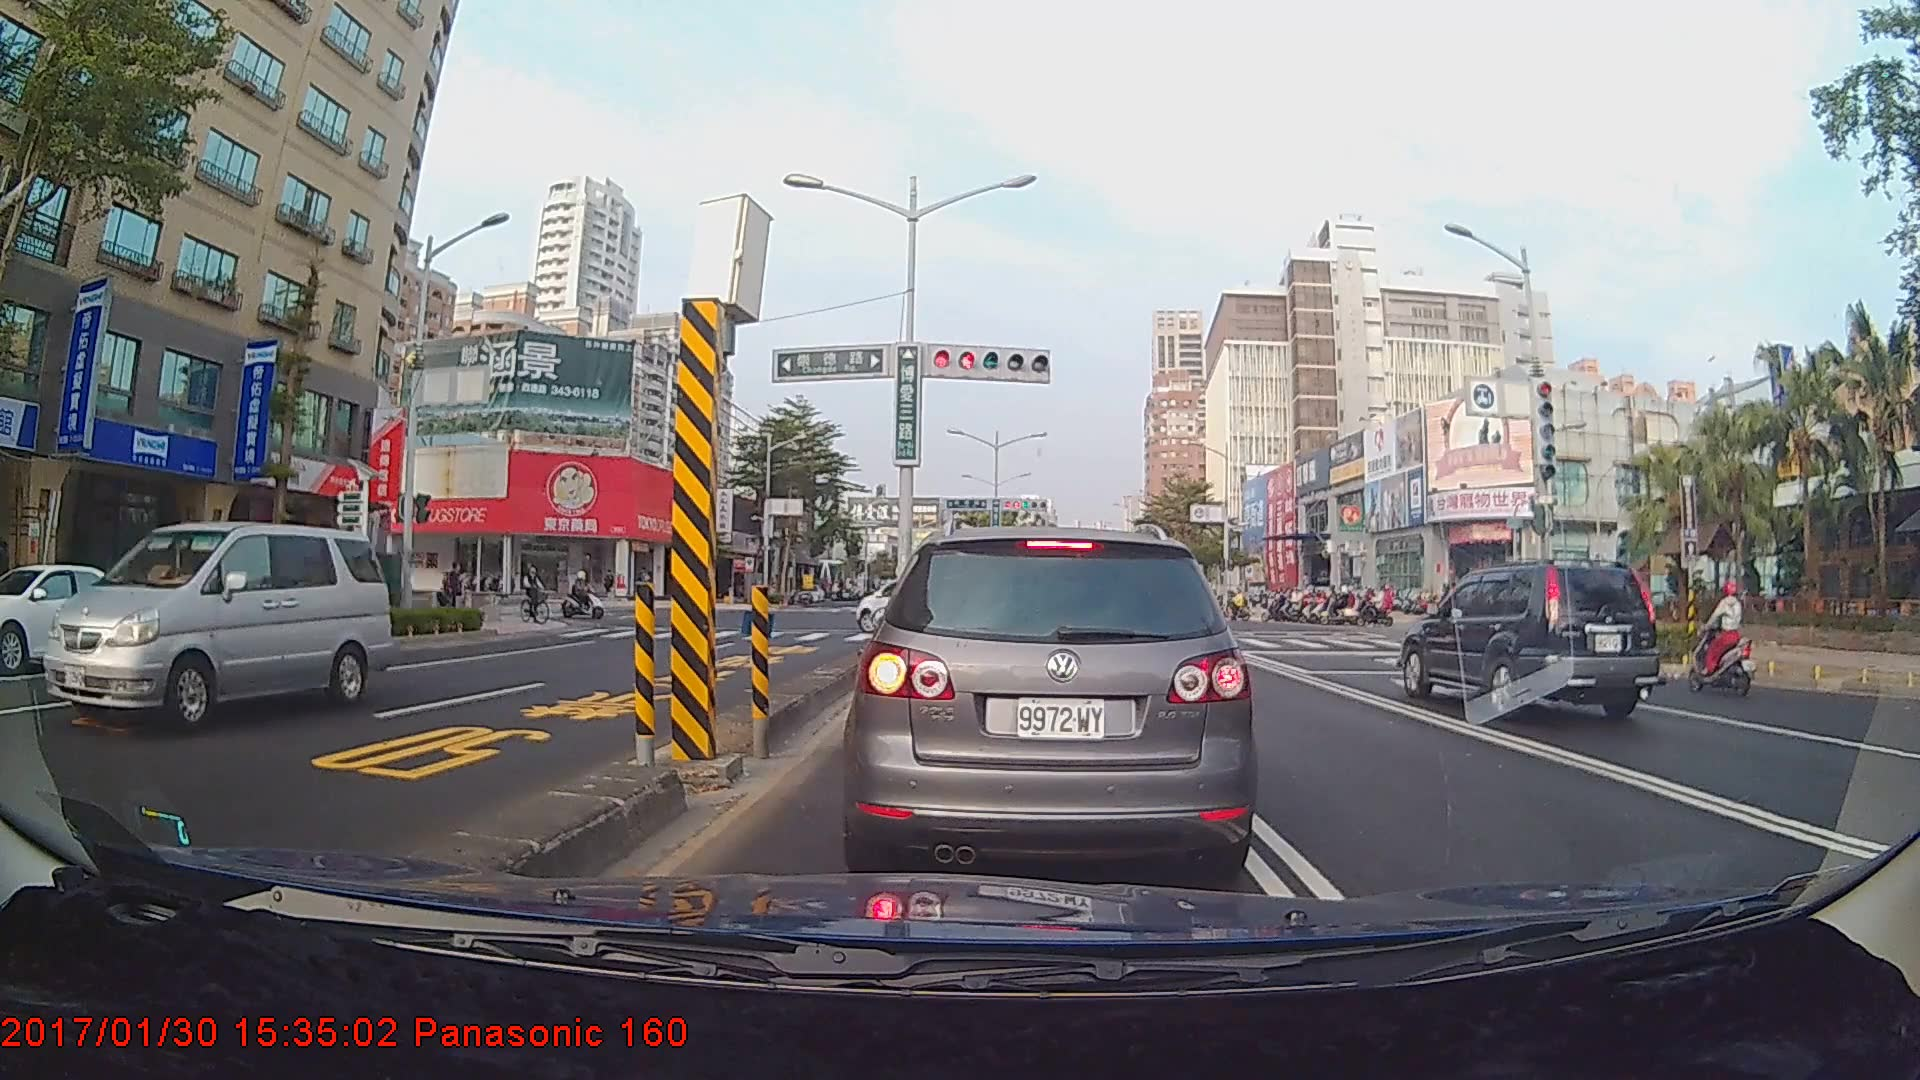pedestrian: (447, 563, 467, 620)
rider: (1689, 566, 1763, 699), (562, 566, 609, 619), (522, 566, 551, 627)
vehicle: (843, 516, 1256, 881), (37, 518, 389, 736), (1396, 556, 1664, 726), (0, 562, 159, 676)
